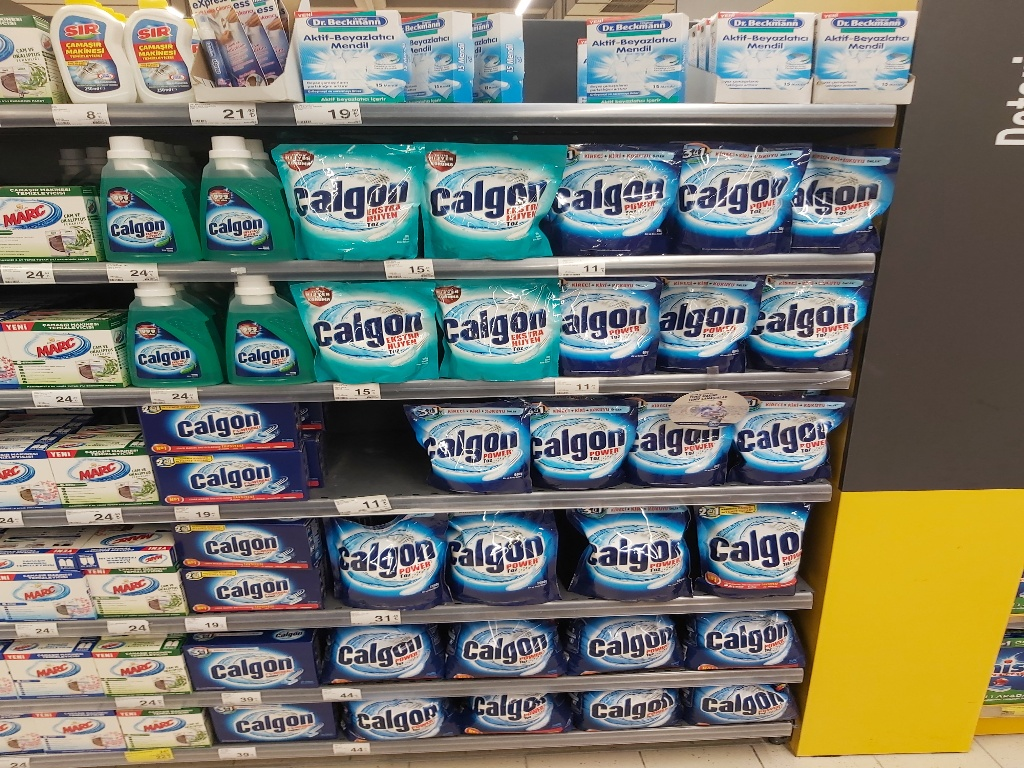urun: (271, 127, 425, 259), (543, 122, 682, 257), (278, 271, 444, 383), (413, 129, 557, 257), (680, 119, 801, 252), (92, 128, 202, 265), (428, 271, 561, 383), (792, 127, 899, 253), (188, 119, 279, 266), (292, 1, 415, 109), (572, 8, 703, 109), (699, 1, 819, 106), (808, 1, 928, 105), (118, 271, 220, 392), (552, 270, 669, 375), (695, 495, 817, 593), (755, 266, 870, 369), (325, 511, 447, 608), (444, 506, 566, 603), (575, 498, 696, 595), (648, 274, 763, 376), (396, 406, 532, 488), (131, 393, 314, 453), (142, 448, 325, 508), (521, 397, 639, 489), (621, 397, 739, 489), (210, 270, 307, 381), (741, 396, 854, 486), (163, 508, 332, 568), (567, 608, 694, 682), (1, 312, 129, 385), (326, 613, 440, 692), (445, 608, 559, 687), (116, 1, 196, 111), (180, 631, 330, 687), (1, 180, 102, 253), (687, 608, 813, 666), (685, 669, 810, 727), (170, 568, 333, 609), (207, 700, 348, 746), (567, 678, 685, 731), (462, 681, 580, 733), (343, 690, 461, 742), (84, 568, 184, 617), (5, 643, 105, 691), (91, 643, 191, 691), (115, 707, 212, 754), (22, 710, 118, 749)
urun2: (49, 1, 128, 111)
